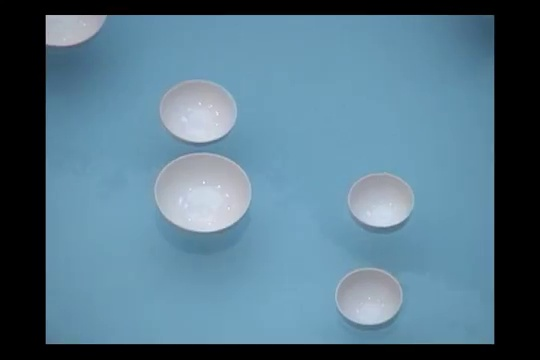bowl: (154, 153, 251, 236), (160, 79, 237, 147), (334, 268, 402, 331), (348, 172, 415, 235), (46, 15, 108, 50)
